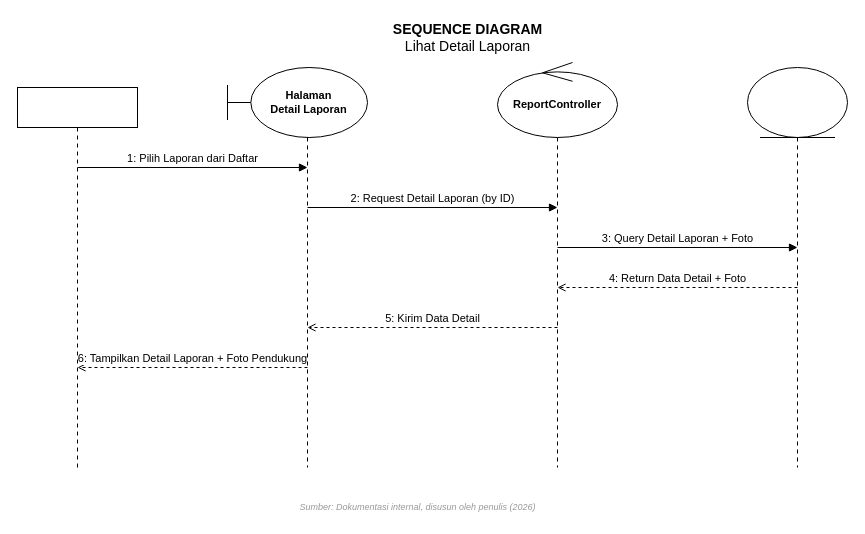
This 865x534 diagram has some shape labels left out. The box of each missing label's shape, as (x1, y1, x2, y2) in pixels:
Database: (746, 66, 848, 138)
Teknisi: (16, 86, 138, 128)
